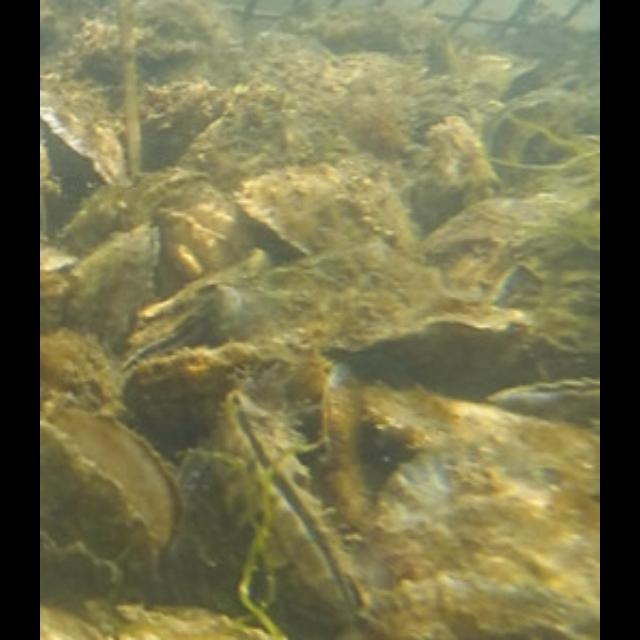Oyster-Closed: (210, 248, 525, 350), (375, 454, 598, 598), (364, 392, 598, 488), (122, 345, 332, 445), (66, 169, 238, 271), (179, 85, 338, 191), (237, 165, 415, 258), (365, 577, 598, 638), (67, 226, 161, 349), (40, 86, 126, 186), (322, 365, 376, 521), (426, 196, 575, 252), (40, 604, 274, 638), (40, 330, 121, 412)
Oyster-Open: (214, 396, 358, 621), (40, 406, 185, 613), (123, 304, 210, 372), (490, 378, 598, 412)
